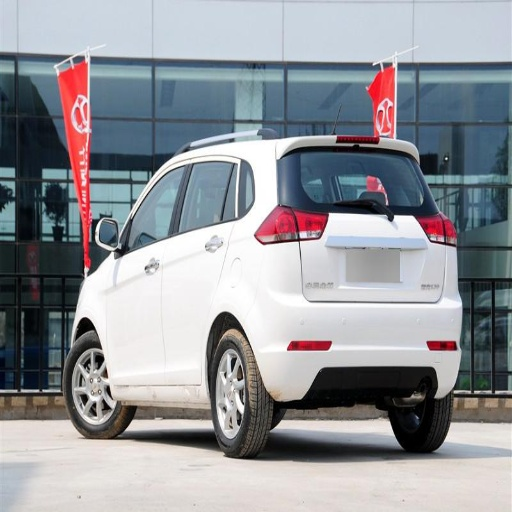back_bumper: (241, 273, 461, 403)
back_glass: (280, 148, 426, 211)
back_left_door: (162, 157, 235, 384)
trunk: (295, 213, 447, 307)
